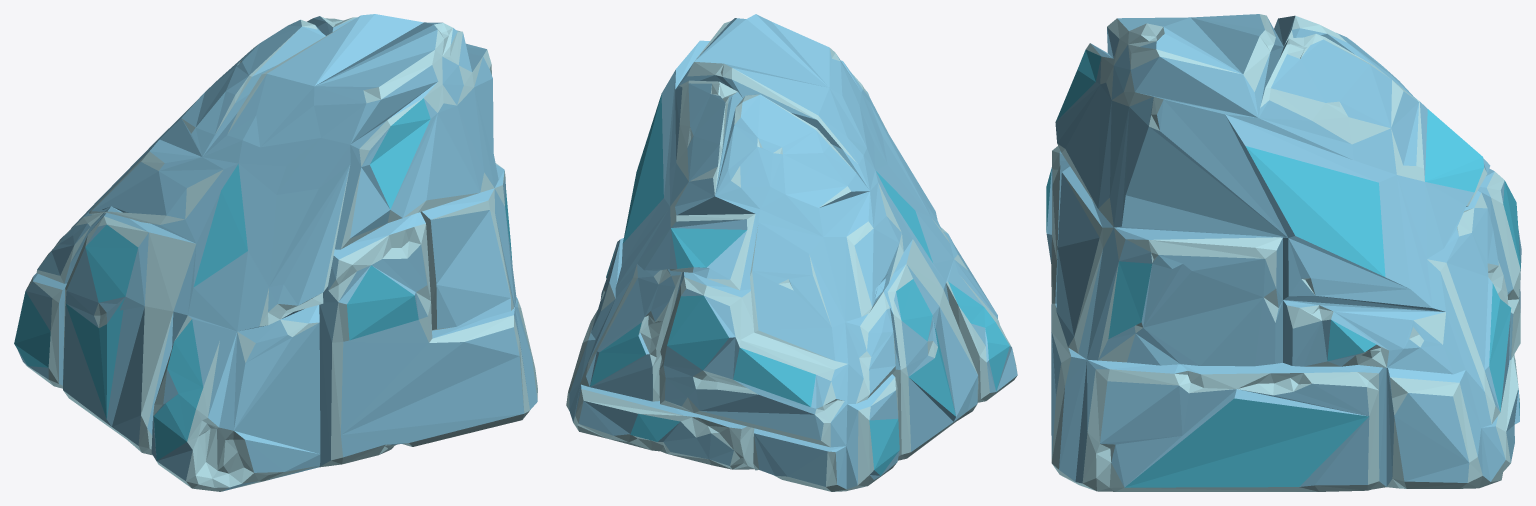
File: cube_dmg1.fbx
The picture shows the model from 3 angles, left to right: view 1: azimuth 30°, elevation 25°; view 2: azimuth 150°, elevation 25°; view 3: azimuth 270°, elevation 25°; orthographic projection. The views are drawn at different scales.
Parts seen in each view (by area): view 1: Cube_dmg; view 2: Cube_dmg; view 3: Cube_dmg.
Boxes of the visible parts, x1,y1,x2,y2 form: Cube_dmg: (14,14,537,491); Cube_dmg: (566,14,1017,491); Cube_dmg: (1046,14,1521,491).
Size of the model in its own units: 230 by 230 by 229.
